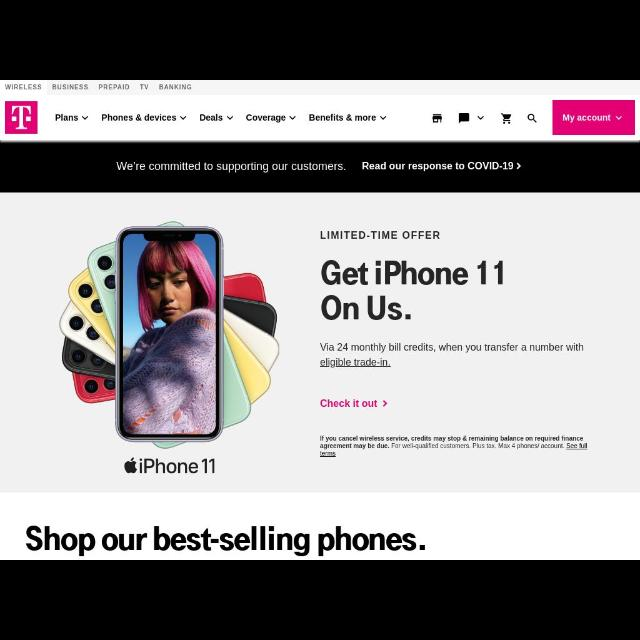icon: (500, 112, 512, 126), (458, 112, 470, 125), (527, 113, 539, 125), (431, 113, 443, 123), (288, 115, 298, 121), (477, 115, 485, 122), (379, 115, 388, 121), (82, 114, 90, 120), (180, 114, 188, 120), (227, 114, 235, 120), (615, 115, 623, 121)
image: (58, 222, 280, 474), (5, 101, 39, 135)
multitab: (1, 80, 195, 94), (55, 114, 388, 122)
spinner: (552, 99, 636, 135), (100, 113, 188, 123), (308, 113, 388, 123), (246, 114, 296, 122), (458, 112, 484, 124), (200, 112, 234, 121), (54, 114, 88, 122)
text: (24, 524, 426, 556), (322, 260, 504, 320), (319, 342, 585, 368), (318, 436, 588, 458), (114, 159, 522, 173), (320, 231, 440, 241), (101, 113, 177, 123), (309, 113, 377, 123), (320, 399, 388, 409), (562, 113, 612, 123), (246, 114, 286, 124), (3, 82, 42, 91), (52, 84, 88, 90), (54, 112, 78, 121), (158, 84, 192, 90), (98, 84, 130, 90), (200, 114, 224, 122), (140, 83, 148, 91)
toolbar: (1, 95, 639, 142), (431, 112, 539, 126)
